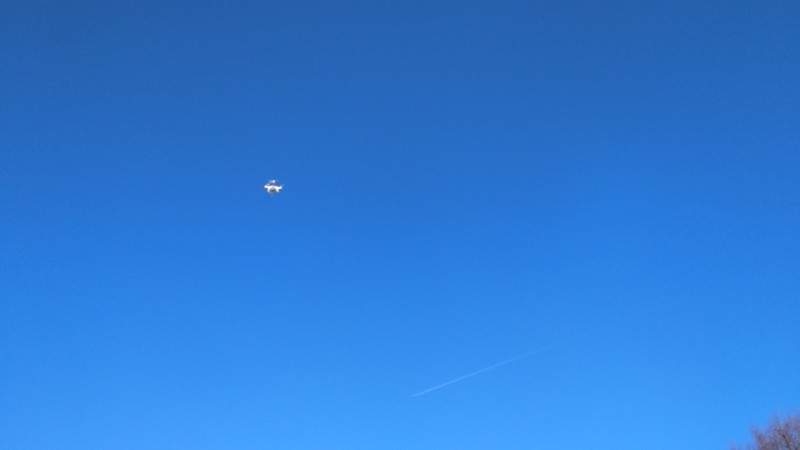drone: (263, 178, 284, 196)
